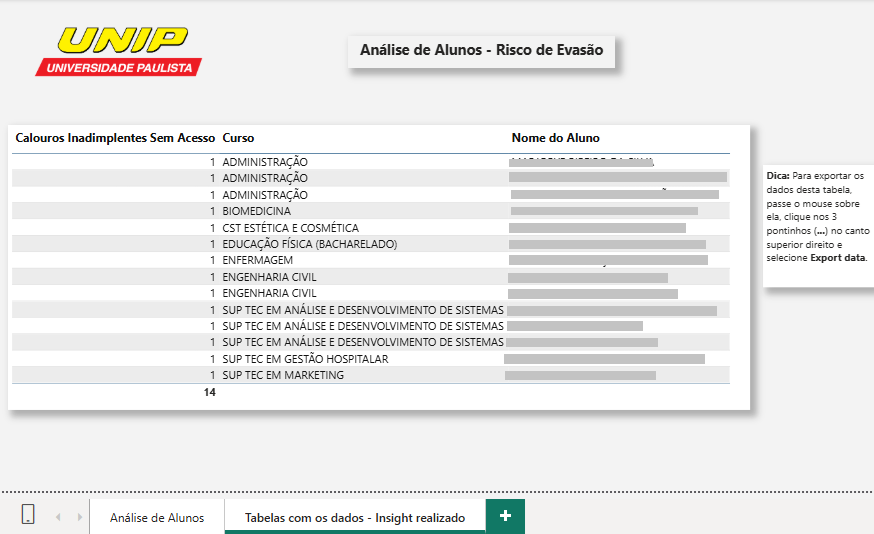

This screenshot's page, from the dashboard's own definition file:
{"tool":"powerbi","page":{"name":"Tabelas com os dados - Insight realizado","canvas":[1280,720],"ordinal":1},"visuals":[{"type":"tableEx","fields":{"Values":["data.Calouros Inadimplentes Sem Acesso","data.Curso","data.Nome do Aluno"]},"box":[11.7,184.4,1085.9,417.1],"z":0},{"type":"image","box":[30.7,30.7,286.8,92.2],"z":1},{"type":"textbox","box":[509.3,54.1,390.7,46.8],"z":2},{"type":"textbox","box":[1116.6,242.9,163.9,178.5],"z":3}]}

Visuals, with their boxes on the page's 1280x720 design canvas (x1, y1, x2, y2). These are canvas units, not pixel positions in the 874x534 screenshot, which may show the page scaled, cropped or inside an application window:
tableEx - data.Calouros Inadimplentes Sem Acesso x data.Curso: box(12, 184, 1098, 602)
image: box(31, 31, 318, 123)
textbox: box(509, 54, 900, 101)
textbox: box(1117, 243, 1280, 421)
